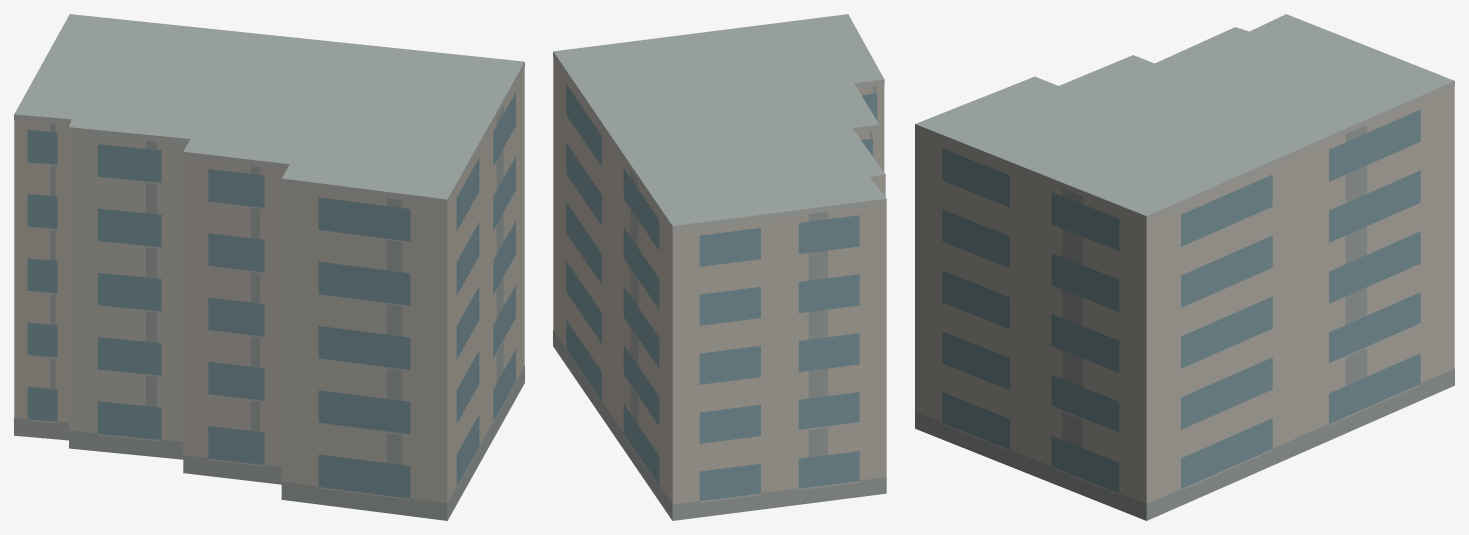
File: survey-upis-32805251.glb
3 views of the same model, side by side, from view 1: azimuth 30°, elevation 25°; view 2: azimuth 150°, elevation 25°; view 3: azimuth 270°, elevation 25° (orthographic). The views are drawn at different scales.
Parts seen in each view (by area): view 1: survey-upis-32805251.tmp; view 2: survey-upis-32805251.tmp; view 3: survey-upis-32805251.tmp.
Part boxes in pixels (x1,y1,x2,y2): survey-upis-32805251.tmp: (14, 14, 524, 520); survey-upis-32805251.tmp: (553, 14, 886, 520); survey-upis-32805251.tmp: (915, 14, 1454, 520).
Bounding box in the file's own units: 18.87 × 13.25 × 21.28.
